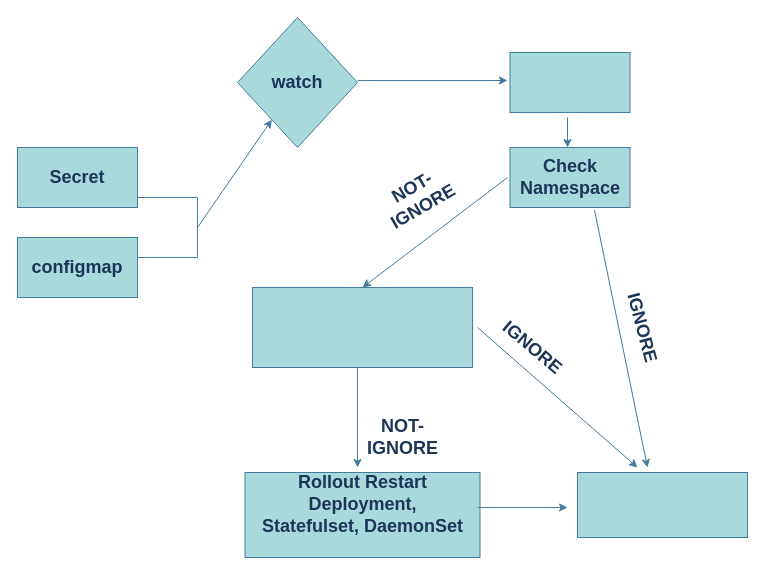
Image size: 765x575. Some labels were removed from this diagram. Each missing label, with the centre of its shape:
Check Deployment, Statefulset, DaemonSet Annotation: (362,327)
Redis Lock: (569,82)
Redis UnLock: (662,505)
